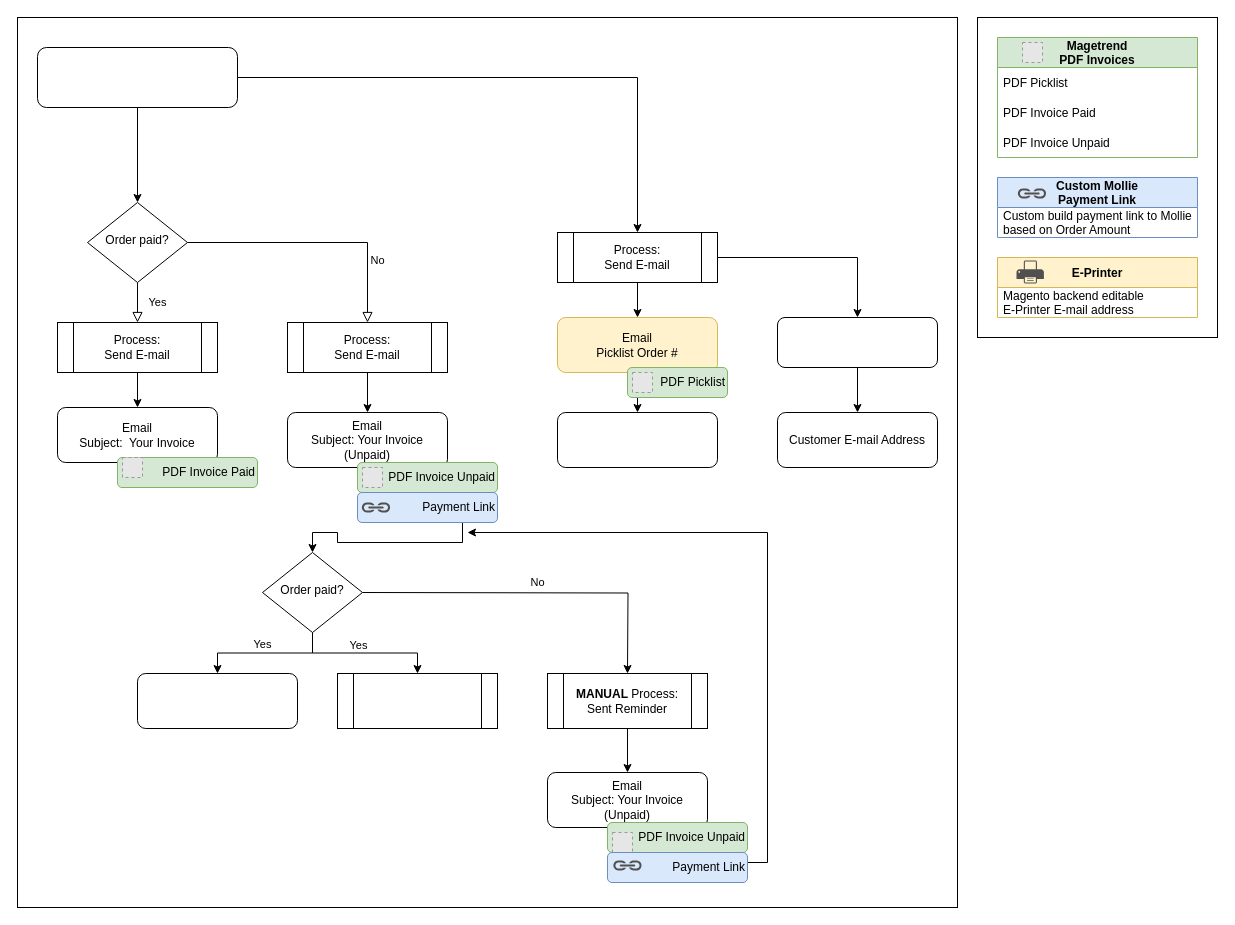
The diagram is 1235 pixels wide and 925 high, and some of its shapes have lost their labels. Grey dashed boxes stand in for pictures. Each missing label, with the centre of its shape:
"Custom Thank You Page" belongs at point (217, 700).
"E-Printer in Stock" belongs at point (637, 440).
"New Order" belongs at point (137, 77).
"Order confirmation" belongs at point (857, 342).
"Process: Set Payment Status to Paid" belongs at point (417, 700).
